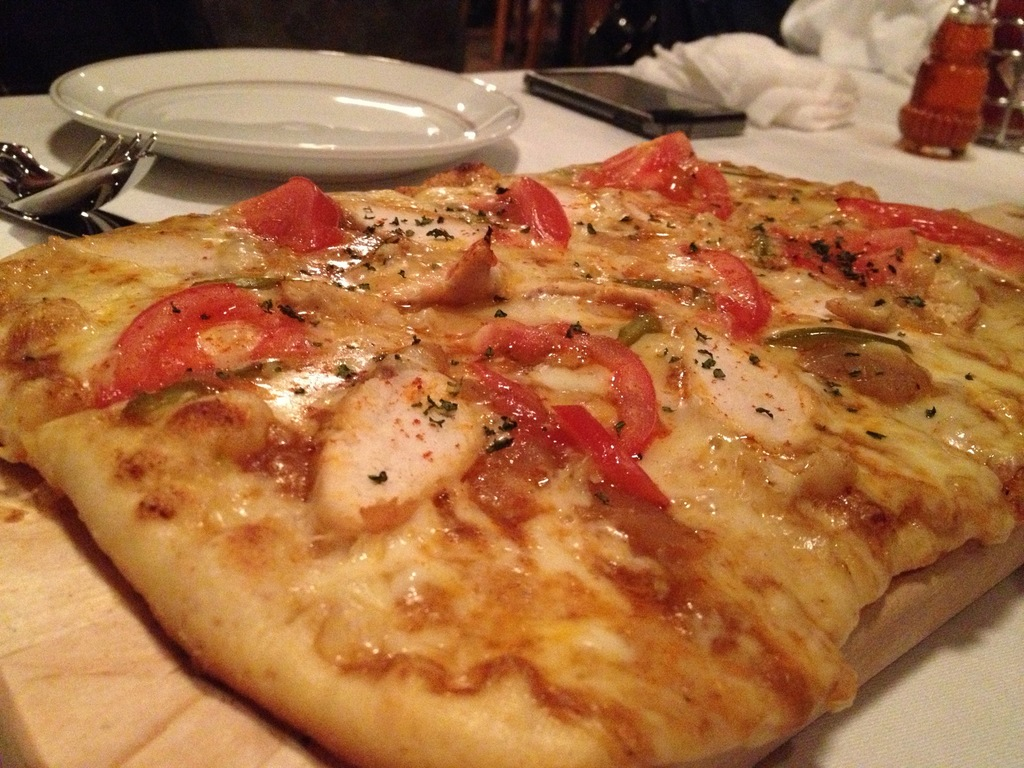Pizza: (32, 130, 1010, 756)
